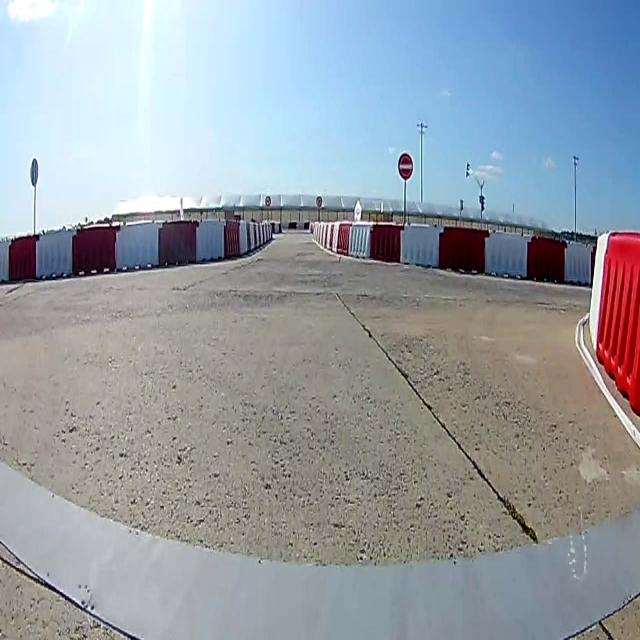girisyok: (398, 152, 414, 180)
